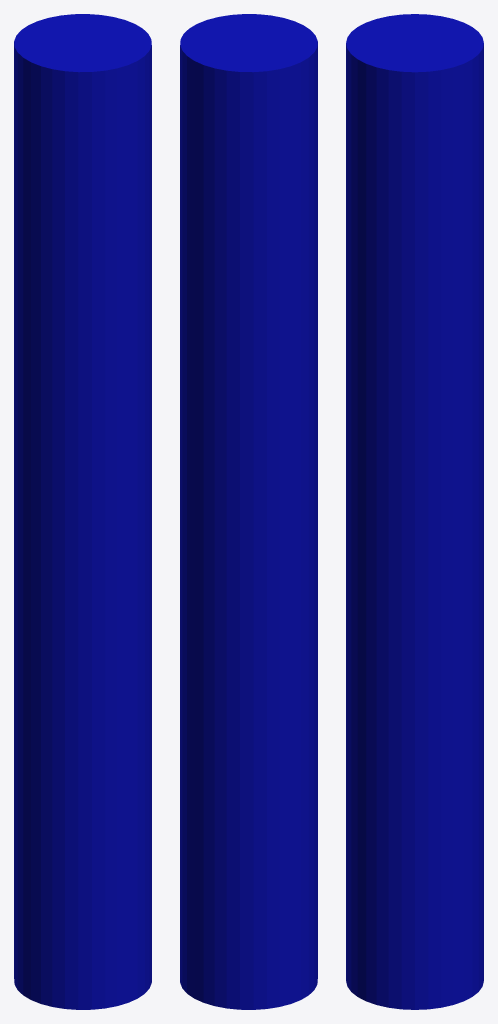
Rendered from cylinder_blue.glb.
The picture shows the model from 3 angles, left to right: view 1: azimuth 30°, elevation 25°; view 2: azimuth 150°, elevation 25°; view 3: azimuth 270°, elevation 25°; orthographic projection.
Parts seen in each view (by area): view 1: Cylinder; view 2: Cylinder; view 3: Cylinder.
Boxes of the visible parts, box(x1,y1,x2,y2) form: Cylinder: box(14, 14, 151, 1009); Cylinder: box(180, 14, 317, 1009); Cylinder: box(346, 14, 483, 1009).
Bounding box in the file's own units: 0.2 × 1.5 × 0.2.
